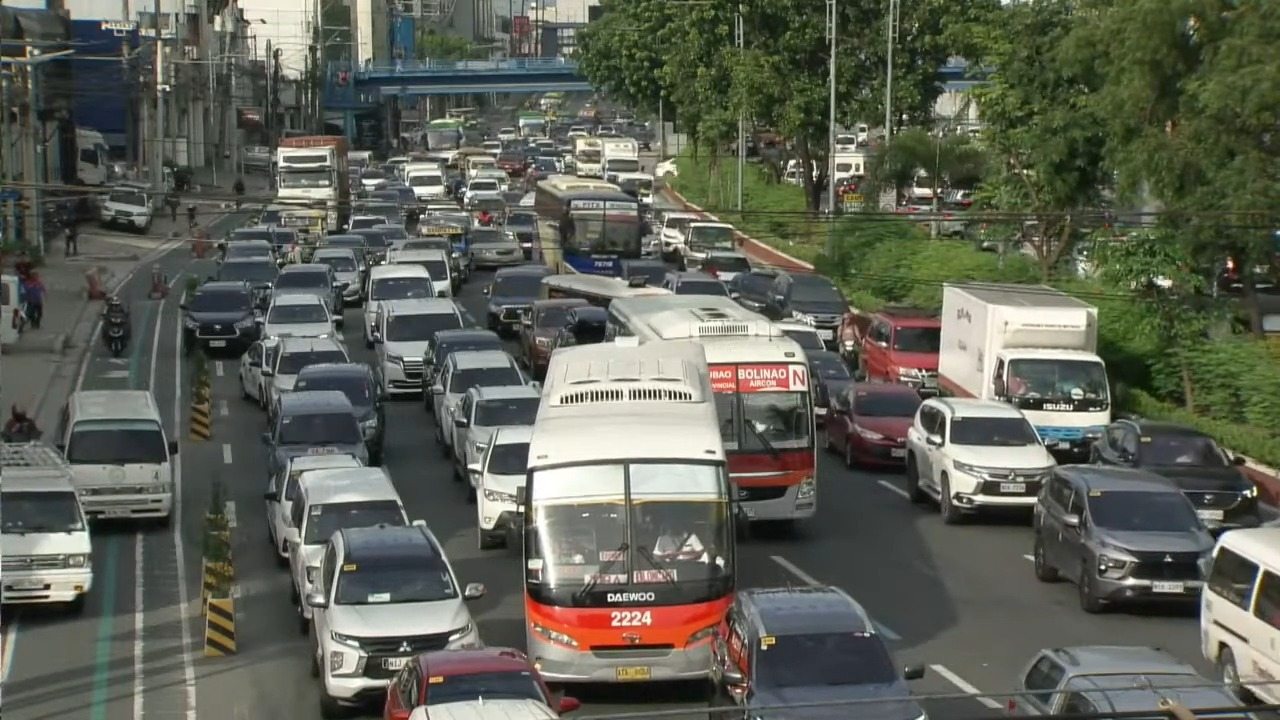bus: (517, 342, 735, 682), (607, 295, 817, 523), (533, 175, 643, 275), (539, 274, 671, 307), (423, 118, 463, 151)
car: (303, 525, 484, 717), (710, 586, 924, 719), (1032, 465, 1214, 612), (284, 467, 408, 634), (1090, 419, 1262, 530), (905, 397, 1056, 523), (1009, 645, 1238, 716), (383, 647, 579, 719), (265, 454, 361, 564), (431, 350, 529, 457), (294, 363, 385, 465), (262, 390, 367, 475), (372, 298, 464, 394), (839, 307, 940, 393), (450, 384, 540, 480), (239, 337, 349, 414), (824, 383, 922, 467), (467, 426, 531, 549), (761, 272, 848, 348), (362, 264, 435, 348), (180, 281, 259, 351), (518, 298, 586, 378), (484, 265, 552, 333), (273, 263, 343, 327), (423, 328, 504, 383), (399, 236, 463, 296), (806, 350, 852, 426), (387, 249, 456, 297), (214, 258, 278, 308), (311, 247, 363, 306), (263, 294, 334, 336), (551, 305, 607, 352), (100, 185, 154, 233), (683, 221, 737, 263), (317, 233, 372, 274), (657, 211, 700, 262), (469, 228, 523, 268), (727, 268, 776, 311), (687, 250, 751, 282), (225, 226, 294, 251), (504, 210, 538, 260), (347, 227, 390, 266), (661, 271, 728, 296), (775, 320, 826, 352), (619, 258, 668, 286), (220, 240, 274, 261), (463, 177, 502, 202), (371, 222, 409, 244), (359, 168, 390, 191), (497, 151, 524, 177), (347, 215, 385, 231), (655, 158, 677, 177), (496, 127, 518, 142)
motorcycle: (102, 317, 127, 357), (0, 421, 42, 442)
truck: (938, 283, 1111, 459), (0, 442, 92, 610), (275, 135, 350, 228), (76, 127, 110, 185), (600, 138, 641, 176), (574, 137, 602, 178), (517, 112, 546, 138)
